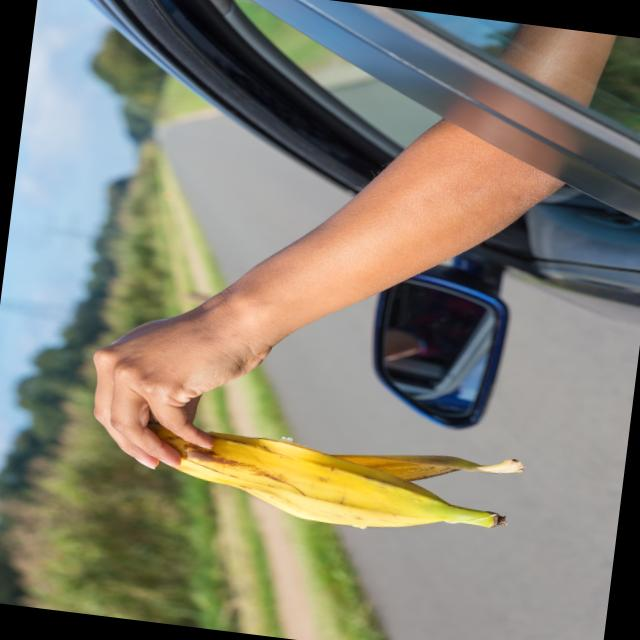banana_peel: (131, 406, 535, 548)
